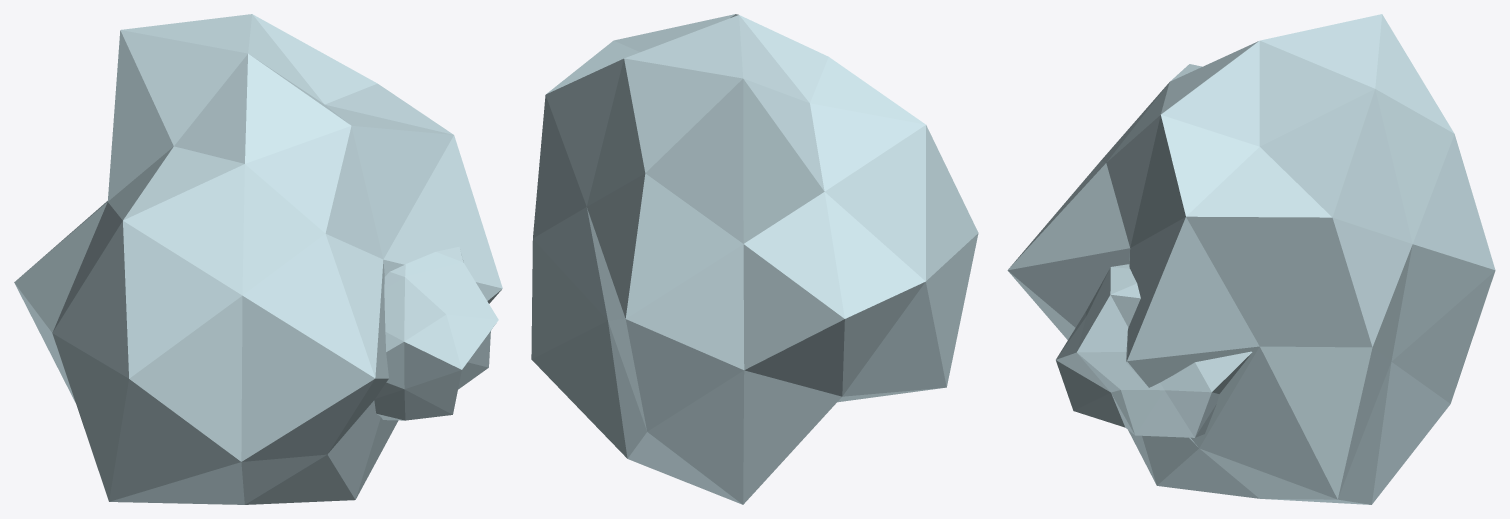
File: iceberg.glb
3 views of the same model, side by side, from view 1: azimuth 30°, elevation 25°; view 2: azimuth 150°, elevation 25°; view 3: azimuth 270°, elevation 25° (orthographic). The views are drawn at different scales.
Parts seen in each view (by area): view 1: Iceberg; view 2: Iceberg; view 3: Iceberg.
Part boxes in pixels (x1,y1,x2,y2): Iceberg: [14, 14, 502, 504]; Iceberg: [531, 14, 978, 504]; Iceberg: [1007, 14, 1495, 504].
Size of the model in its own units: 5.53 by 6.26 by 6.15.
